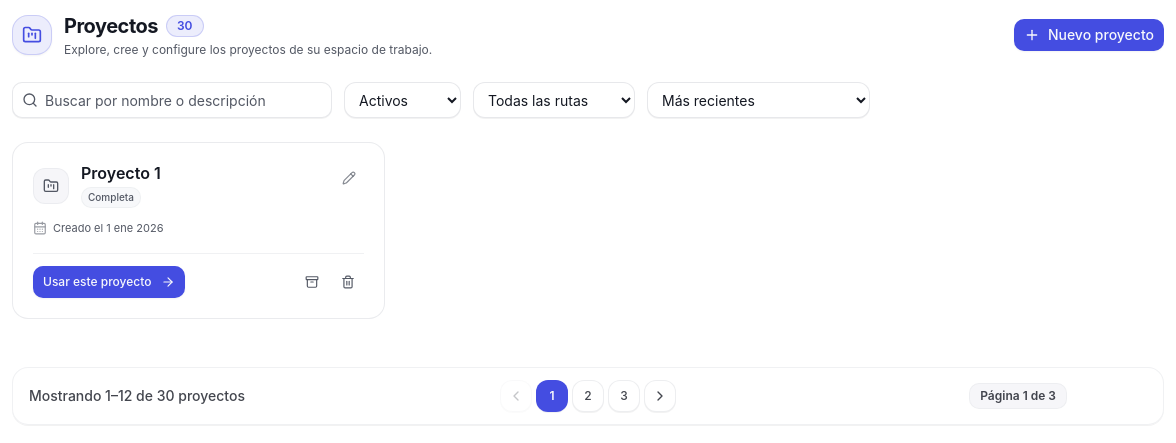
Test case: ProjectsPage › shows active projects first and pages through the rest
The image size is (1176, 443).
expect the heading "Proyecto 1" is shown: met, box [81,163,161,183]
expect the text "Mostrando 1–12 de 30 proyectos" is shown: met, box [29,386,245,406]
Click the button named "Siguiente".
click(660, 396)  # box [644,380,676,412]
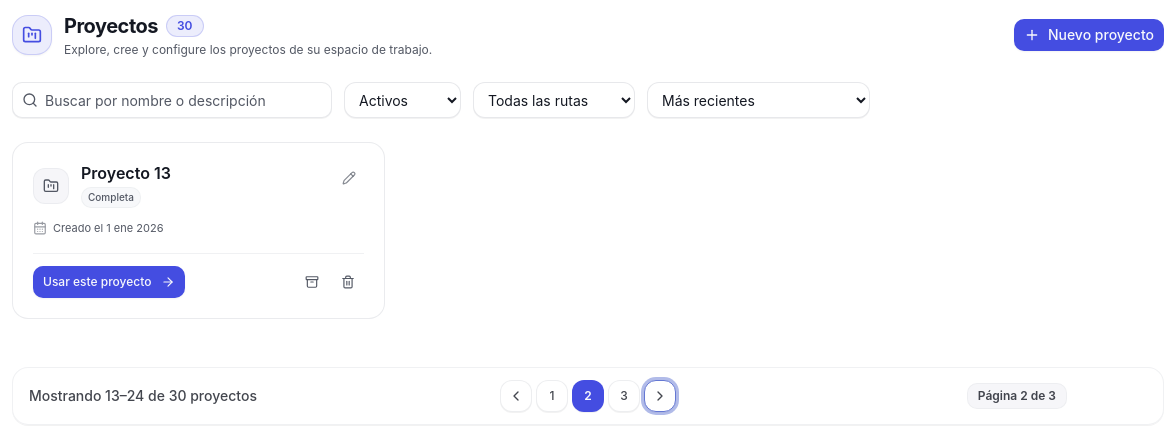
expect the heading "Proyecto 13" is shown: met, box [81,163,171,183]
